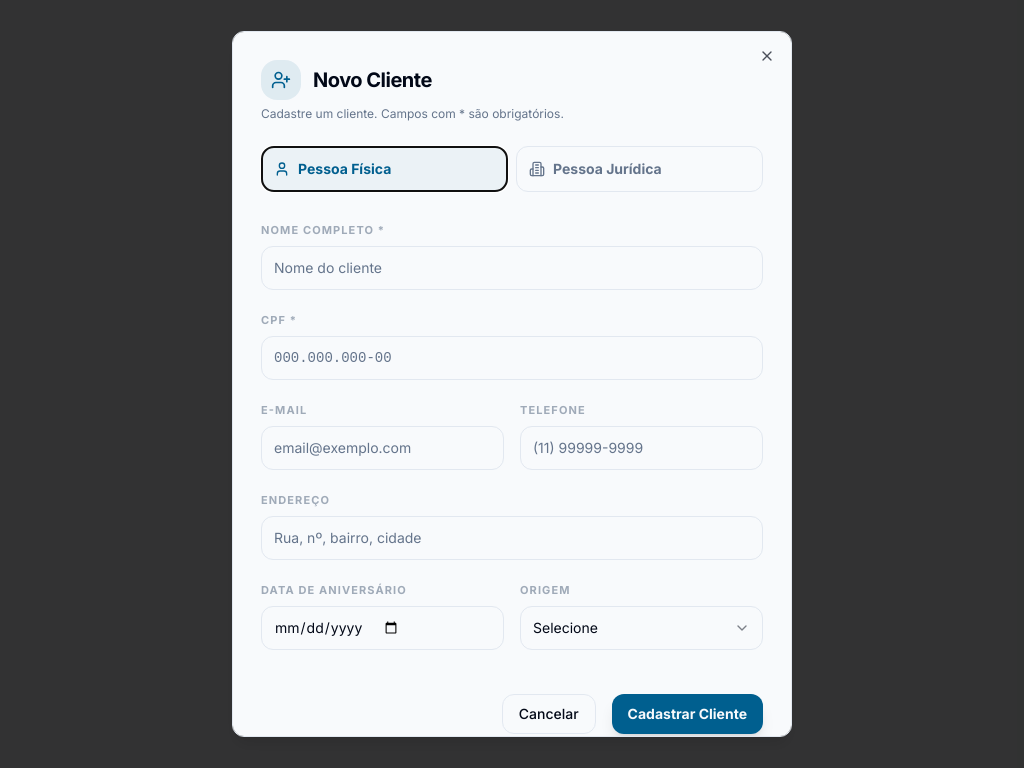
Test: NovoClienteDialog — validação e prefill › bloqueia CPF inválido com a mensagem certa e NÃO salva
The image size is (1024, 768).
Type "Maria da Silva" into the field with placeholder "Nome do cliente" at (512, 268), box left=261, top=246, right=763, bottom=290
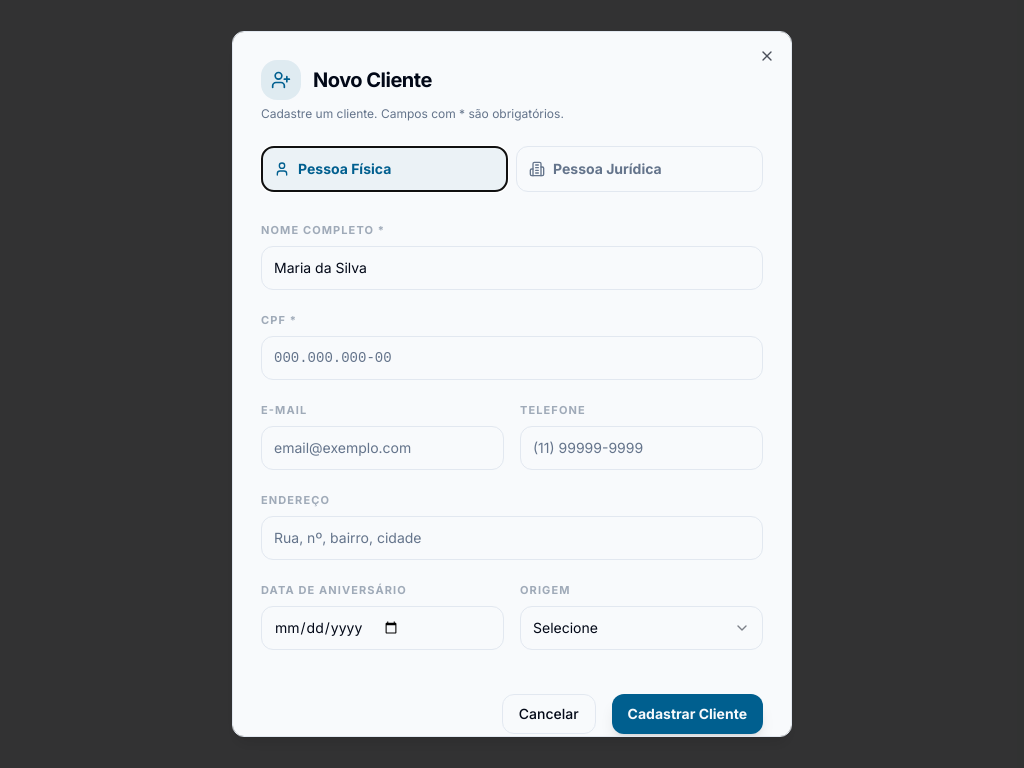
Type "111.111.111-11" into the field with placeholder "000.000.000-00" at (512, 358), box left=261, top=336, right=763, bottom=380
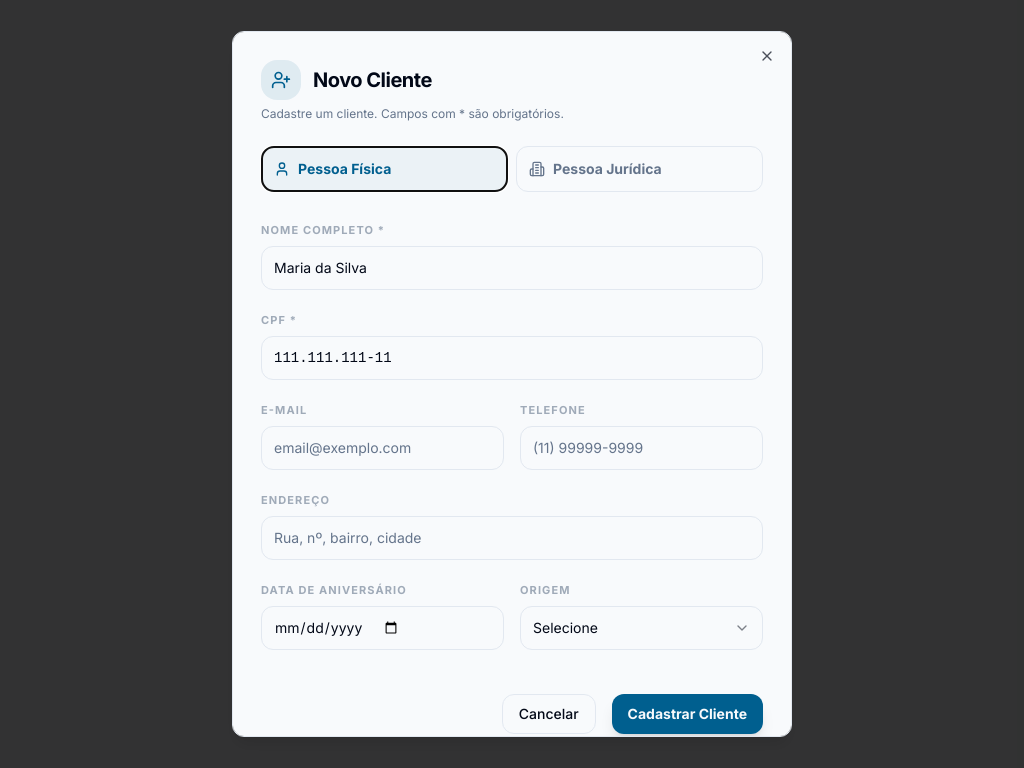
Click the button "Cadastrar Cliente" at (687, 714), box left=612, top=694, right=763, bottom=734
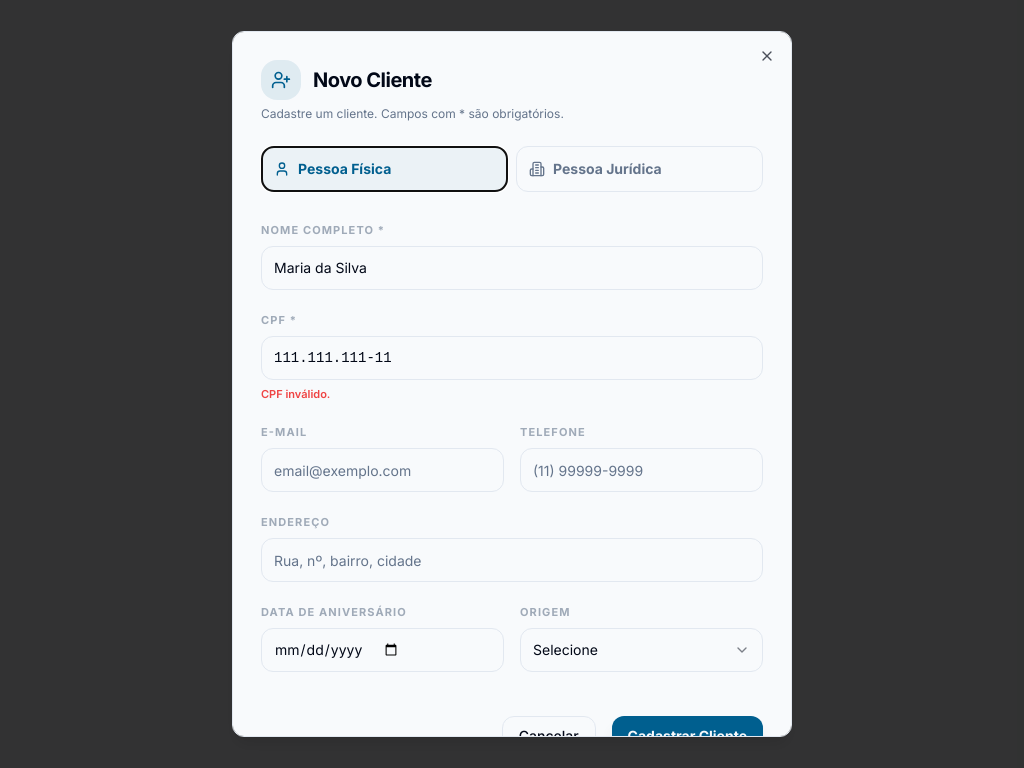
Expected: the text "CPF inválido." is shown, left=261, top=387, right=330, bottom=401
